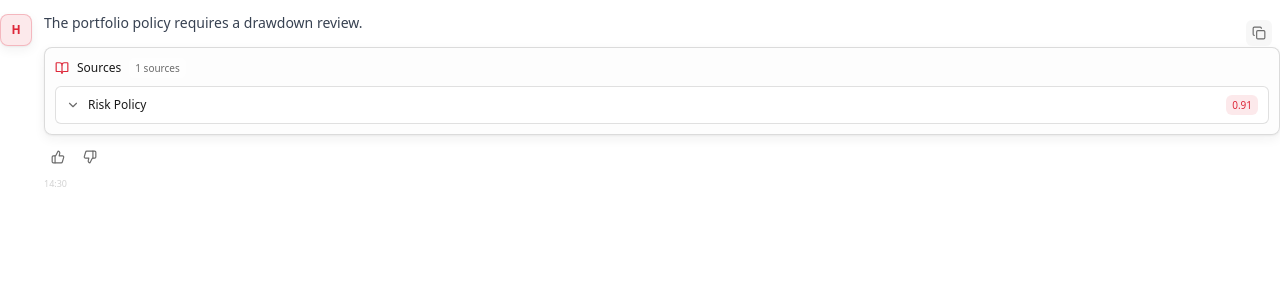
Scenario: MessageBubble › answer messages › shows expandable citation snippets for RAG-backed answers
expect the text "Sources" is shown: met, box [77,60,121,76]
expect the text "Portfolios with drawdowns" is not shown: met
Click the button "Risk Policy 0.91". click: (117, 104)
box: [56,87,1268,123]
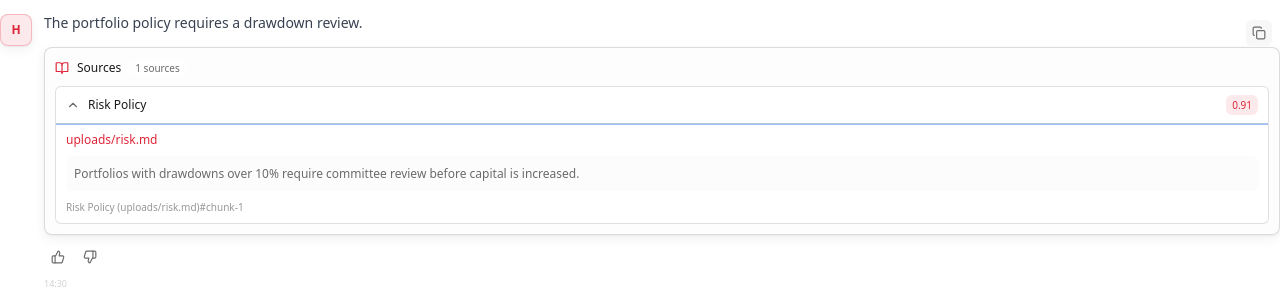
expect the text "Portfolios with drawdowns" is shown: met, box [74,165,579,182]
expect the text "uploads/risk.md" is shown: met, box [66,131,158,148]
